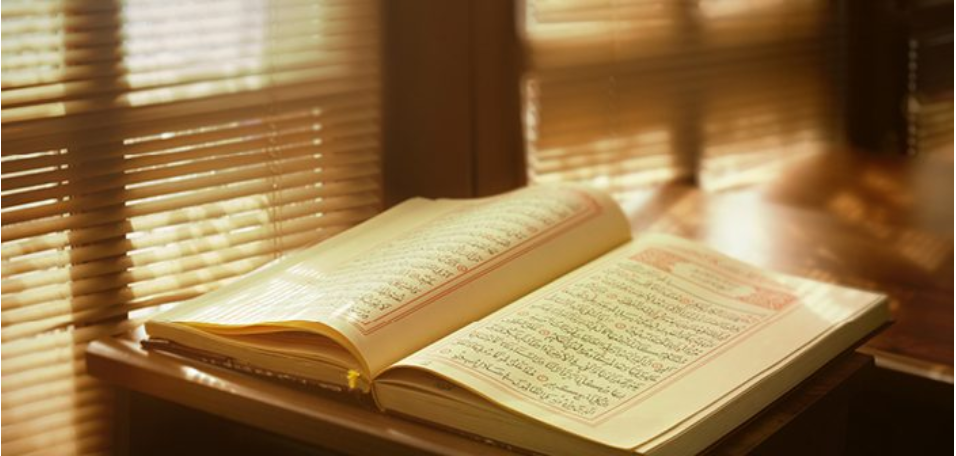book: (145, 183, 891, 451)
